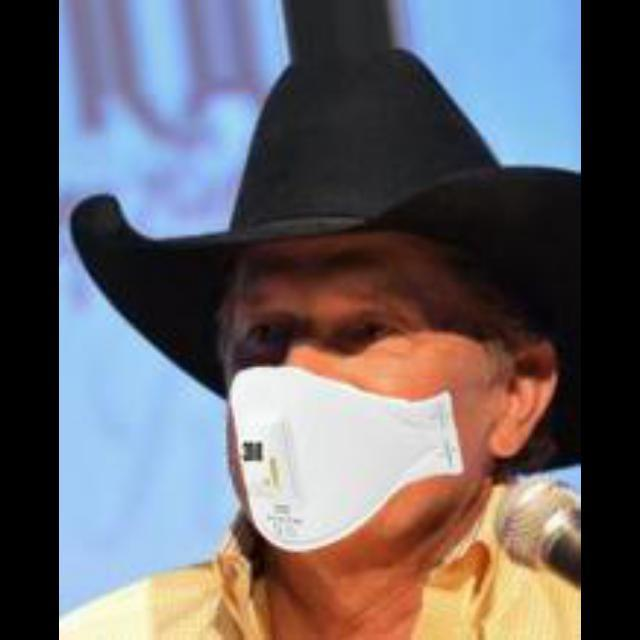suspicion: (116, 122, 554, 566)
